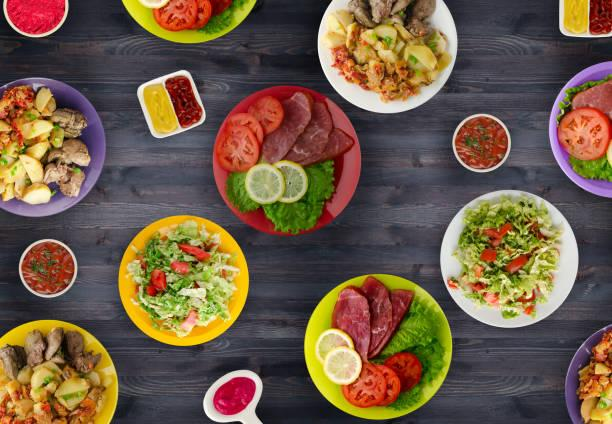Braised Crucian Carp: (303, 274, 451, 419), (212, 84, 353, 235), (439, 189, 578, 328), (119, 215, 247, 344), (316, 0, 456, 116), (1, 76, 107, 217), (1, 319, 119, 422), (560, 0, 612, 38)
